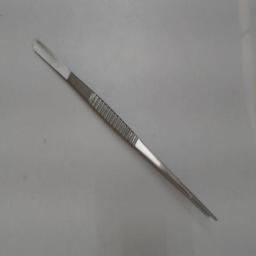DeBakey Dissector: (12, 24, 232, 242)
